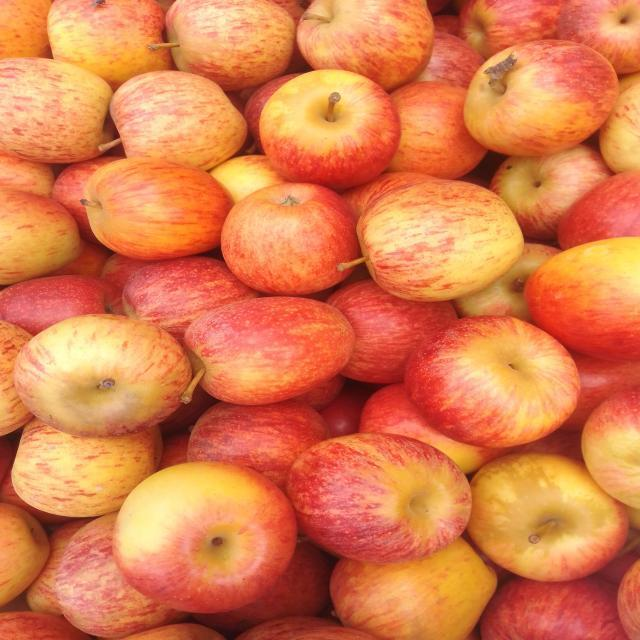Fresh Apple: (105, 457, 300, 615), (410, 312, 583, 452), (465, 443, 632, 585), (293, 432, 470, 563), (357, 177, 523, 305), (18, 315, 185, 437), (470, 30, 622, 163), (188, 287, 358, 405), (326, 533, 504, 640), (250, 70, 400, 195), (220, 178, 357, 295), (526, 231, 640, 366), (103, 67, 252, 168), (87, 155, 223, 257), (0, 55, 115, 168), (300, 0, 440, 81), (166, 0, 298, 76), (483, 568, 621, 640), (35, 0, 171, 73)
